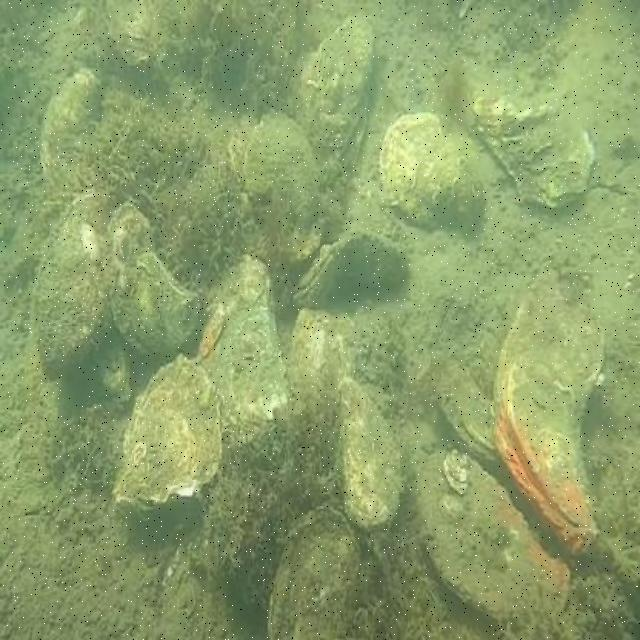Oyster-Closed: (420, 448, 570, 619), (197, 252, 291, 443), (114, 349, 222, 508), (95, 205, 202, 365), (33, 194, 119, 387), (471, 95, 592, 207), (271, 493, 362, 638), (332, 382, 406, 533), (380, 119, 482, 223), (295, 13, 372, 149), (293, 225, 406, 308), (243, 117, 327, 221), (39, 72, 105, 196), (440, 346, 502, 463), (291, 310, 357, 409), (99, 0, 176, 67), (232, 128, 251, 180)
Oyster-Open: (495, 272, 605, 544)
